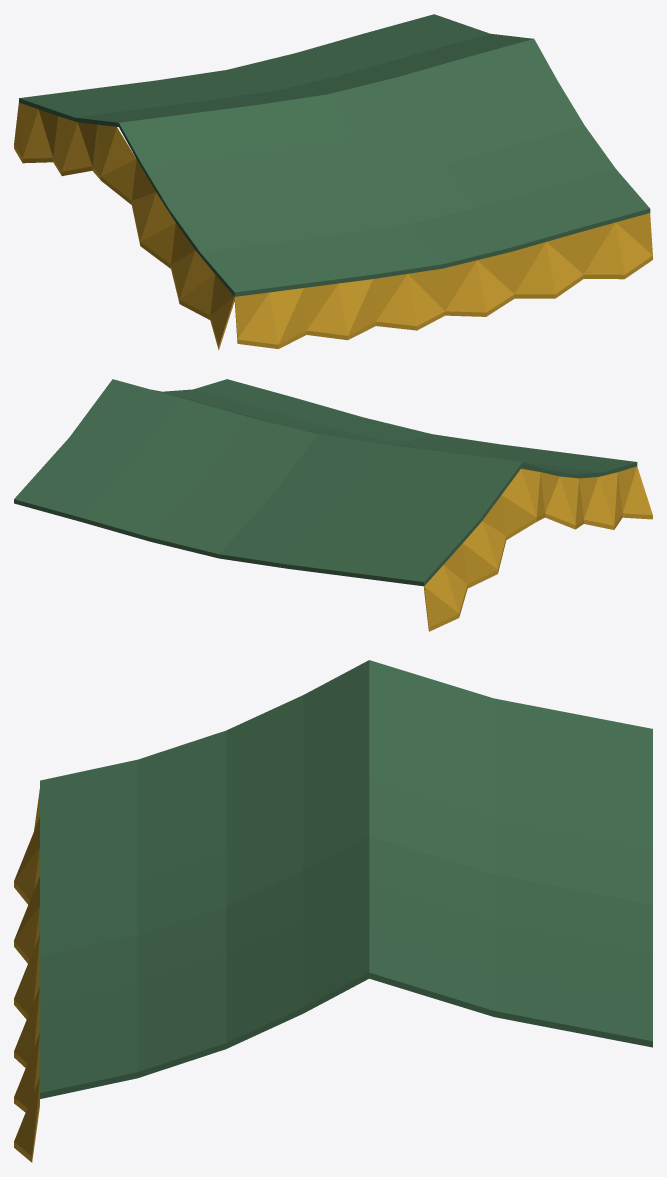
Rendered from SM_Stall_Canopy_Green_02.fbx.
3 views of the same model, one above another, from view 1: azimuth 30°, elevation 25°; view 2: azimuth 150°, elevation 25°; view 3: azimuth 270°, elevation 25° (orthographic). The views are drawn at different scales.
Visible parts, largest first — view 1: SM_Stall_Canopy_Green_02; view 2: SM_Stall_Canopy_Green_02; view 3: SM_Stall_Canopy_Green_02.
Boxes of the visible parts, box(x1,y1,x2,y2) form: SM_Stall_Canopy_Green_02: box(14, 14, 652, 350); SM_Stall_Canopy_Green_02: box(14, 379, 652, 631); SM_Stall_Canopy_Green_02: box(14, 660, 652, 1162).
Size of the model in its own units: 3.12 by 1.12 by 2.81.
1 material, 1 textured.
